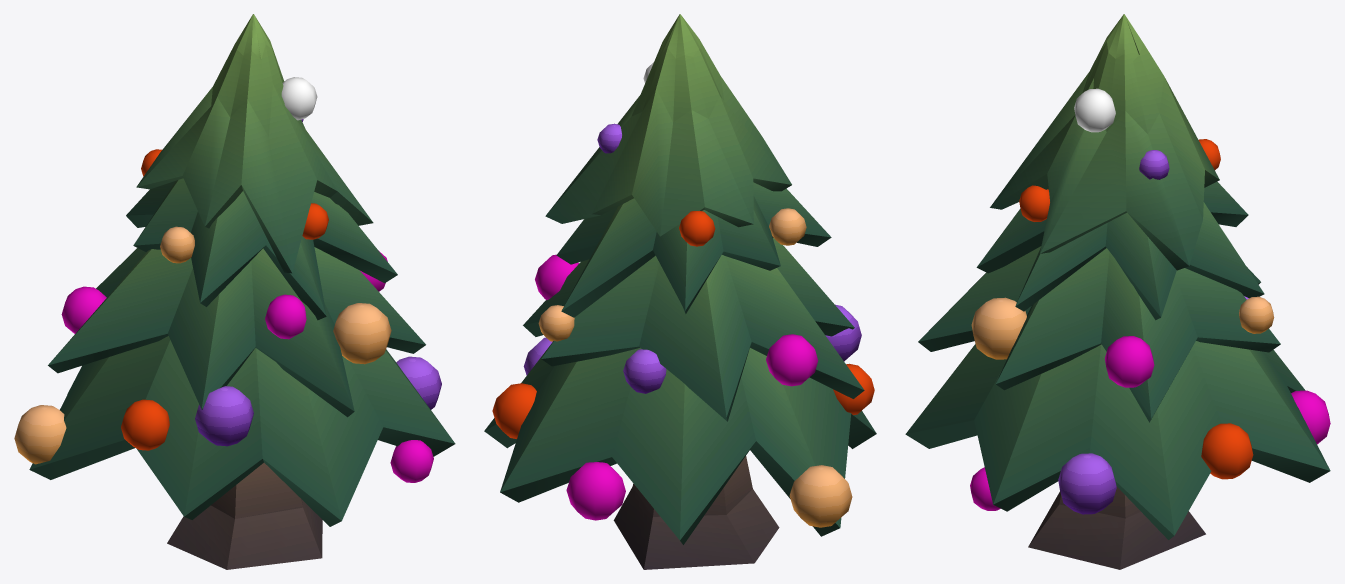
3 renders of one model, left to right at view 1: azimuth 30°, elevation 25°; view 2: azimuth 150°, elevation 25°; view 3: azimuth 270°, elevation 25°, orthographic.
Visible parts, largest first — view 1: 25__treetop_004_chris; view 2: 25__treetop_004_chris; view 3: 25__treetop_004_chris.
Boxes of the visible parts, x1=… form: 25__treetop_004_chris: x1=14, y1=14, x2=455, y2=569; 25__treetop_004_chris: x1=484, y1=14, x2=876, y2=569; 25__treetop_004_chris: x1=905, y1=14, x2=1330, y2=569.
Size of the model in its own units: 7.38 by 9.91 by 7.31.
Materials: 11 (8 with a texture image).
